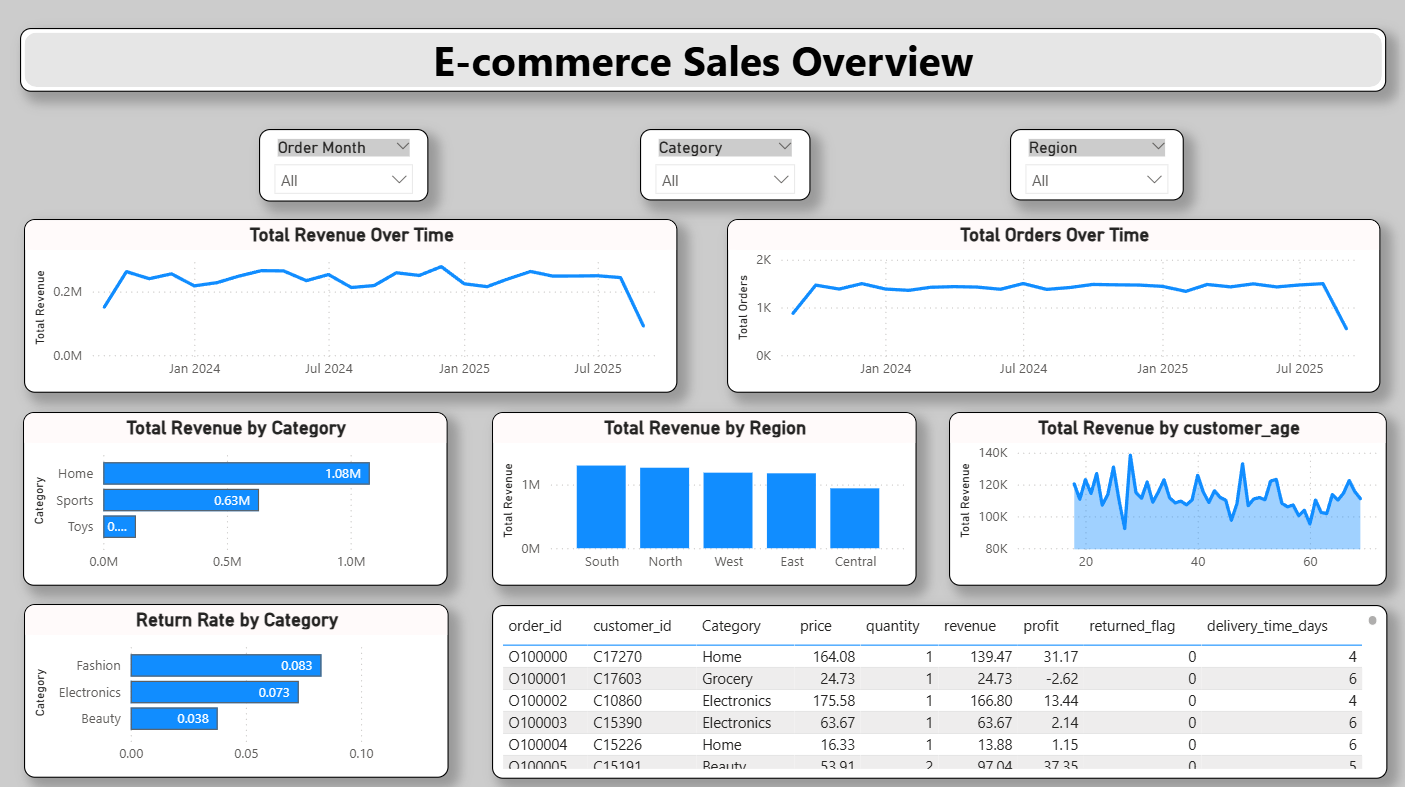

What the dashboard file says about the page in this screenshot:
{"tool":"powerbi","page":{"name":"Page 1","canvas":[1280,720],"ordinal":0},"visuals":[{"type":"shape","box":[19.5,28.4,1242.3,57.6],"z":0},{"type":"slicer","fields":{"Values":["ecommerce sales.Order Month"]},"box":[236,120,154,66],"z":1000},{"type":"slicer","fields":{"Values":["ecommerce sales.Category"]},"box":[583,120,155,65],"z":2000},{"type":"slicer","fields":{"Values":["ecommerce sales.Region"]},"box":[919,120,158,65],"z":3000},{"type":"lineChart","title":"Total Revenue Over Time","fields":{"Category":["ecommerce sales.Order Month"],"Y":["ecommerce sales.Total Revenue"]},"box":[23.1,202.2,594.1,157.8],"z":4000},{"type":"barChart","fields":{"Y":["ecommerce sales.Total Revenue","select"],"Category":["ecommerce sales.Category"]},"box":[22.2,376.8,385.7,157.8],"z":5000},{"type":"clusteredBarChart","fields":{"Category":["ecommerce sales.Category"],"Y":["ecommerce sales.Return Rate"]},"box":[23.1,551.5,385.7,157.8],"z":6000},{"type":"lineChart","title":"Total Orders Over Time","fields":{"Category":["ecommerce sales.Order Month"],"Y":["ecommerce sales.Total Orders"]},"box":[661.5,202.2,594.1,157.8],"z":7000},{"type":"clusteredColumnChart","fields":{"Category":["ecommerce sales.Region"],"Y":["ecommerce sales.Total Revenue"]},"box":[447.8,376.8,385.7,157.8],"z":8000},{"type":"areaChart","fields":{"Category":["ecommerce sales.customer_age"],"Y":["ecommerce sales.Total Revenue"]},"box":[863.6,376.8,398.1,157.8],"z":9000},{"type":"tableEx","fields":{"Values":["ecommerce sales.order_id","ecommerce sales.customer_id","ecommerce sales.Category","ecommerce sales.price","ecommerce sales.quantity","ecommerce sales.revenue","ecommerce sales.profit","ecommerce sales.returned_flag","ecommerce sales.delivery_time_days"]},"box":[447.8,552.4,814,157.8],"z":10000}]}

Visuals, with their boxes in screenshot pixels (x1, y1, x2, y2), scaled from the page's 1280x720 canvas onto the 1405x787 screenshot:
shape: bbox=[21, 31, 1385, 94]
slicer - ecommerce sales.Order Month: bbox=[259, 131, 428, 203]
slicer - ecommerce sales.Category: bbox=[640, 131, 810, 202]
slicer - ecommerce sales.Region: bbox=[1009, 131, 1182, 202]
"Total Revenue Over Time" lineChart: bbox=[25, 221, 677, 393]
barChart - ecommerce sales.Total Revenue x select: bbox=[24, 412, 448, 584]
clusteredBarChart - ecommerce sales.Category x ecommerce sales.Return Rate: bbox=[25, 603, 449, 775]
"Total Orders Over Time" lineChart: bbox=[726, 221, 1378, 393]
clusteredColumnChart - ecommerce sales.Region x ecommerce sales.Total Revenue: bbox=[492, 412, 915, 584]
areaChart - ecommerce sales.customer_age x ecommerce sales.Total Revenue: bbox=[948, 412, 1385, 584]
tableEx - ecommerce sales.order_id x ecommerce sales.customer_id: bbox=[492, 604, 1385, 776]
